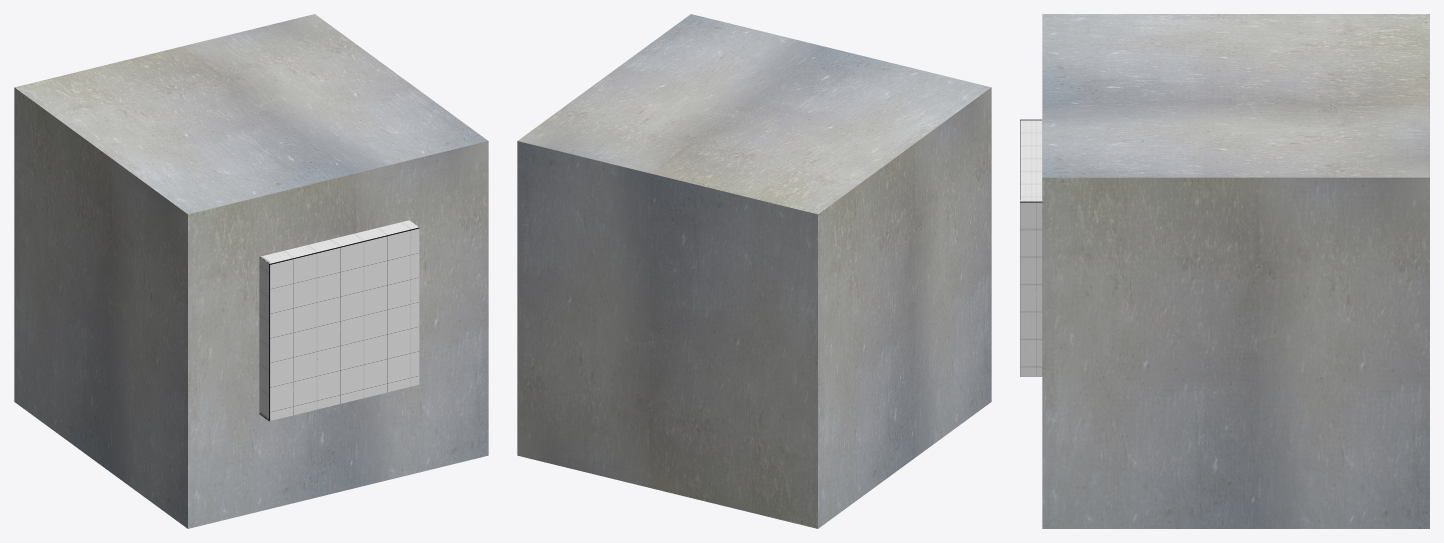
File: Wand_03.fbx
The picture shows the model from 3 angles, left to right: view 1: azimuth 30°, elevation 25°; view 2: azimuth 150°, elevation 25°; view 3: azimuth 270°, elevation 25°; orthographic projection. The views are drawn at different scales.
Visible parts, largest first — view 1: pCube10, pCube8; view 2: pCube10; view 3: pCube10, pCube8.
Part boxes in pixels (x1=…): pCube10: x1=14, y1=14, x2=488, y2=528; pCube8: x1=259, y1=220, x2=419, y2=421; pCube10: x1=517, y1=14, x2=991, y2=528; pCube10: x1=1042, y1=14, x2=1429, y2=528; pCube8: x1=1020, y1=119, x2=1042, y2=376.
Bounding box in the file's own units: 10 × 10 × 10.57.
2 materials, 2 textured.
